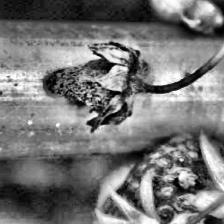Gray Mold: (44, 41, 163, 134)
